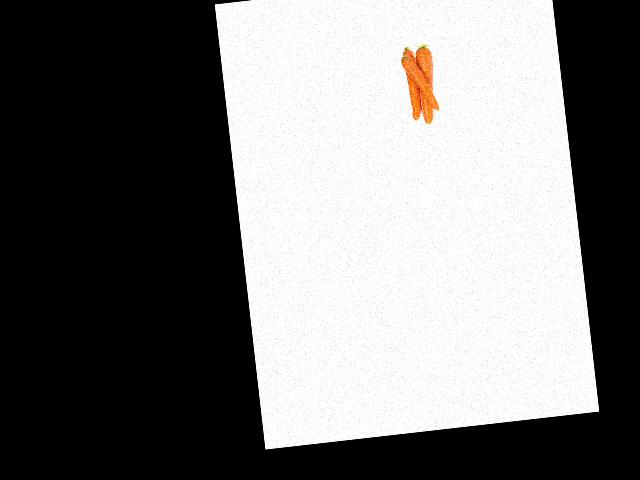carrot: (416, 43, 440, 127)
